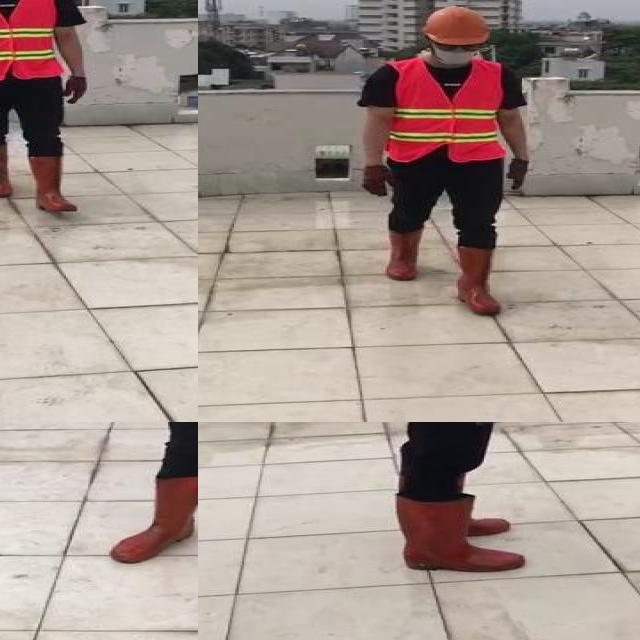boots: (392, 496, 526, 579), (109, 472, 198, 563), (454, 244, 506, 318), (25, 155, 73, 211), (387, 227, 424, 282), (0, 146, 12, 196)
face_mask: (432, 38, 484, 66)
glasses: (434, 40, 484, 54)
hand_glove: (364, 163, 396, 198), (510, 158, 529, 189), (64, 77, 86, 103)
head_helmet: (414, 3, 496, 48)
person: (346, 0, 544, 328), (358, 422, 547, 578), (0, 0, 97, 217), (103, 422, 198, 565)
vest: (390, 62, 506, 163), (0, 0, 68, 81)
